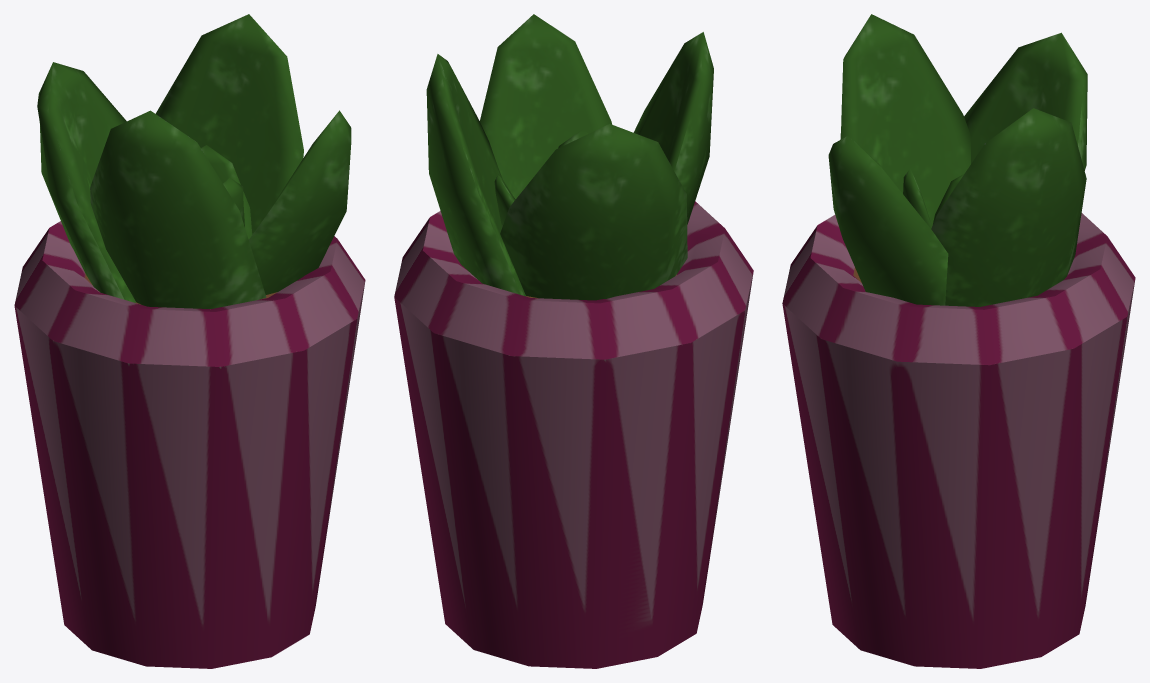
The model's file is Planta.fbx.
The picture shows the model from 3 angles, left to right: view 1: azimuth 30°, elevation 25°; view 2: azimuth 150°, elevation 25°; view 3: azimuth 270°, elevation 25°; orthographic projection. The views are drawn at different scales.
Parts seen in each view (by area): view 1: PlantRoom; view 2: PlantRoom; view 3: PlantRoom.
Boxes of the visible parts, x1,y1,x2,y2 form: PlantRoom: (14,14,365,668); PlantRoom: (394,14,753,668); PlantRoom: (782,14,1135,668).
Bounding box in the file's own units: 74.39 × 130 × 74.39.
